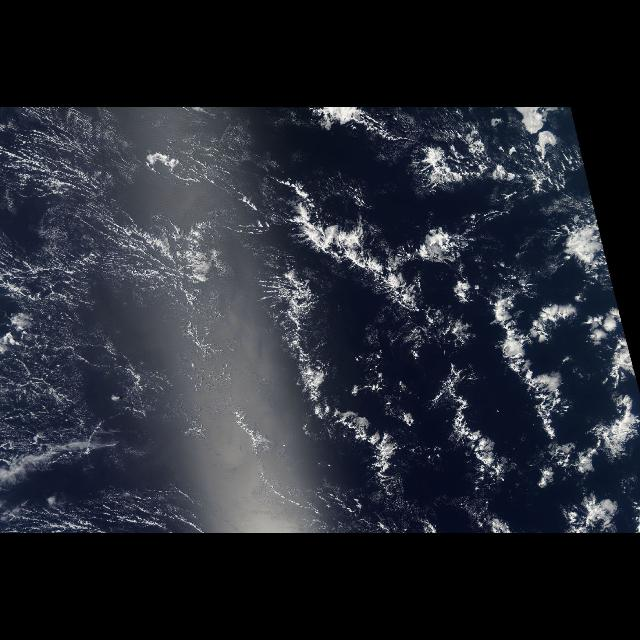Sugar: (0, 109, 286, 534)
